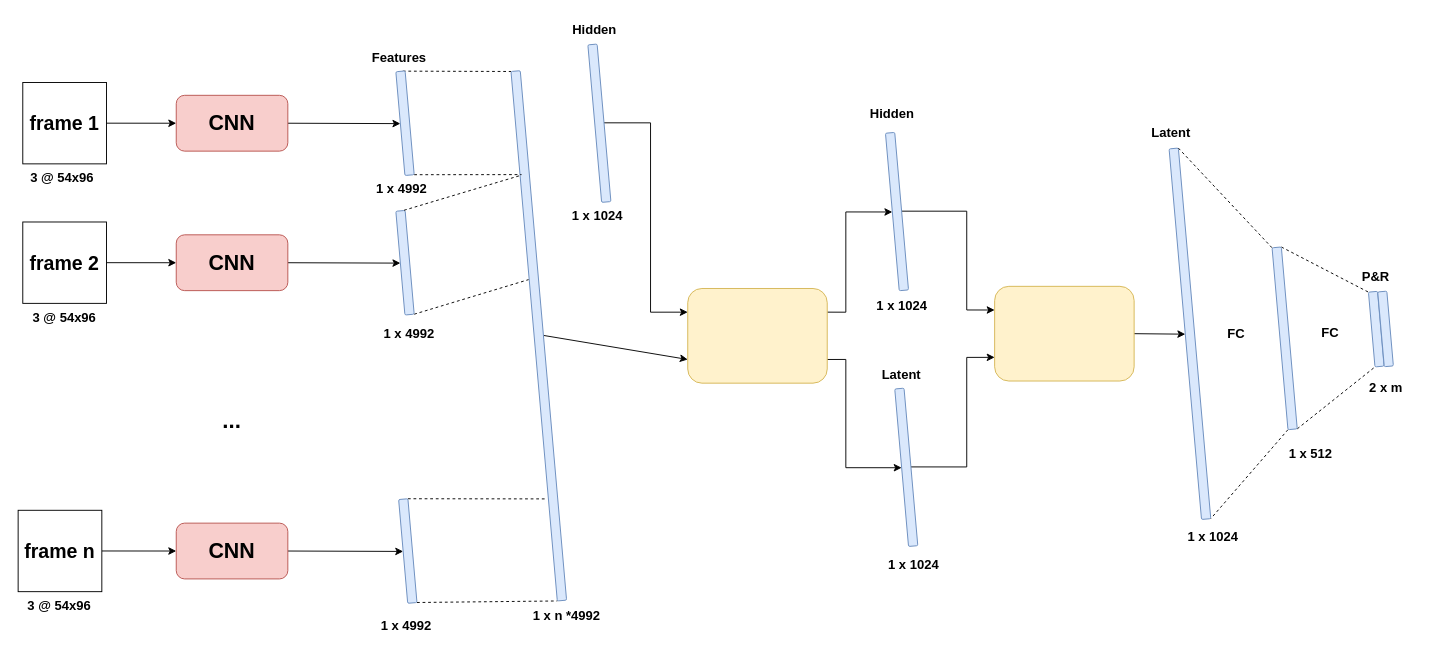
Some shapes in this 1430 by 655 pixel diagram are drawn without their labels. The shapes that lost their labels are listed below. From the top down, each one's box as (x1, y1, x2, y2) in pixels, then its label:
(687, 288, 827, 383): LSTM encoder
(994, 285, 1134, 381): LSTM decoder
